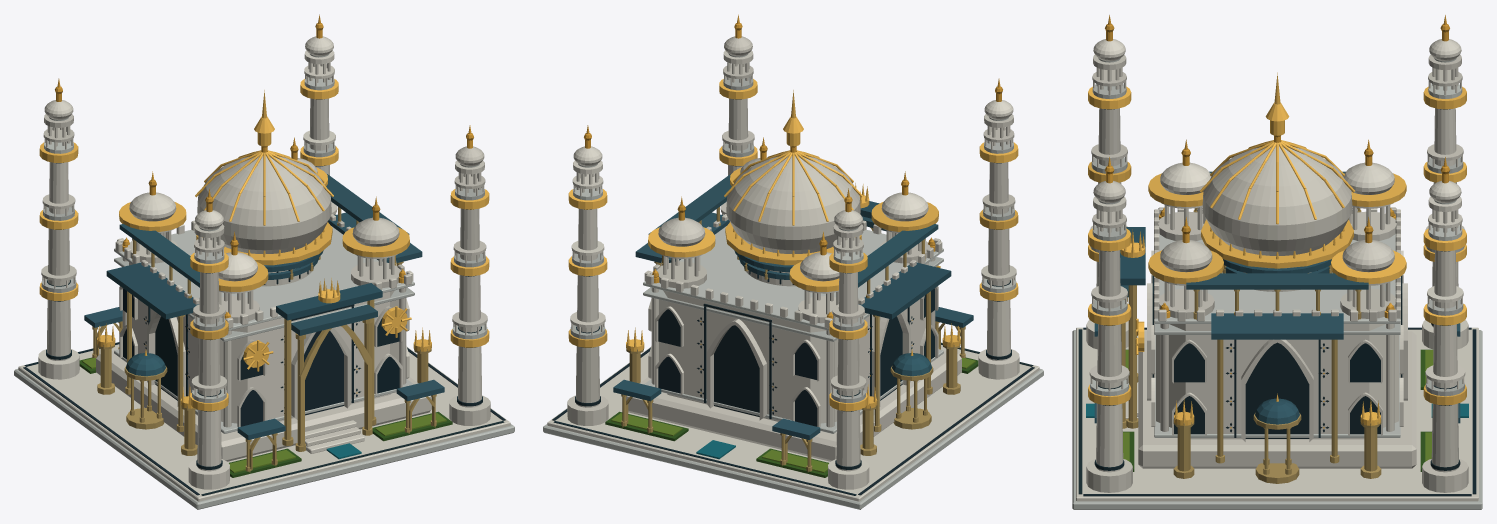
3 views of the same model, side by side, from view 1: azimuth 30°, elevation 25°; view 2: azimuth 150°, elevation 25°; view 3: azimuth 270°, elevation 25° (orthographic). The views are drawn at different scales.
Parts seen in each view (by area): view 1: fort_L15_0, fort_L15_1; view 2: fort_L15_0, fort_L15_1; view 3: fort_L15_0, fort_L15_1.
Boxes of the visible parts, x1,y1,x2,y2 form: fort_L15_0: (14, 23, 514, 509); fort_L15_1: (39, 14, 489, 411); fort_L15_0: (543, 23, 1043, 509); fort_L15_1: (568, 14, 1018, 411); fort_L15_0: (1072, 24, 1482, 509); fort_L15_1: (1088, 15, 1466, 428).
Size of the model in its own units: 7.6 by 7.18 by 7.6.
